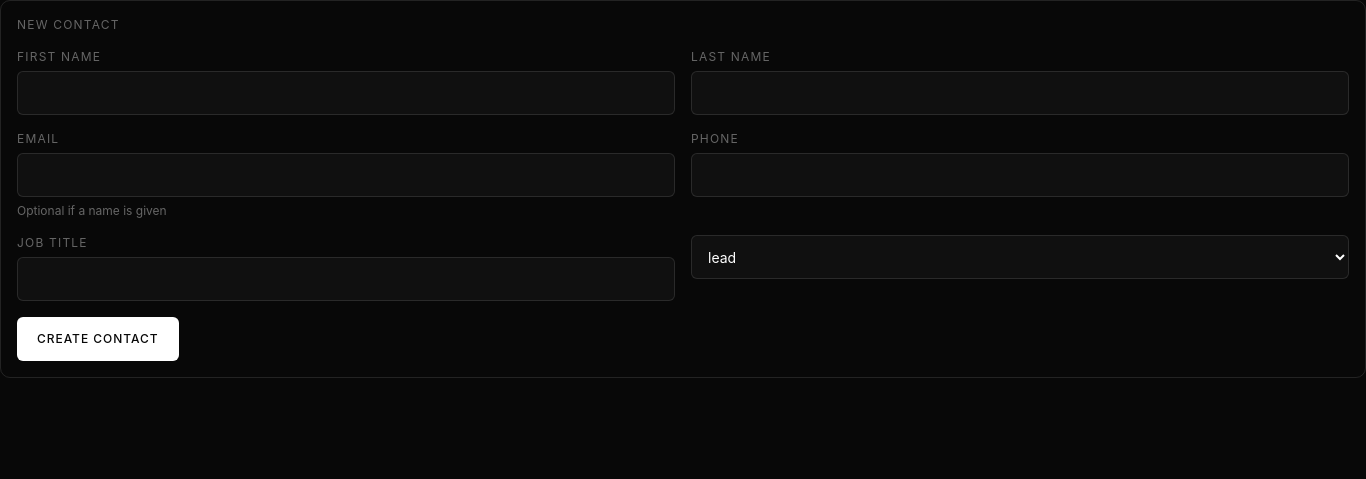
Test: CreateContactForm › surfaces a field-level error via an accessible alert, associated with its input
This screenshot has width=1366, height=479.
Click the button "Create contact" at (98, 339), box [17, 317, 179, 361]
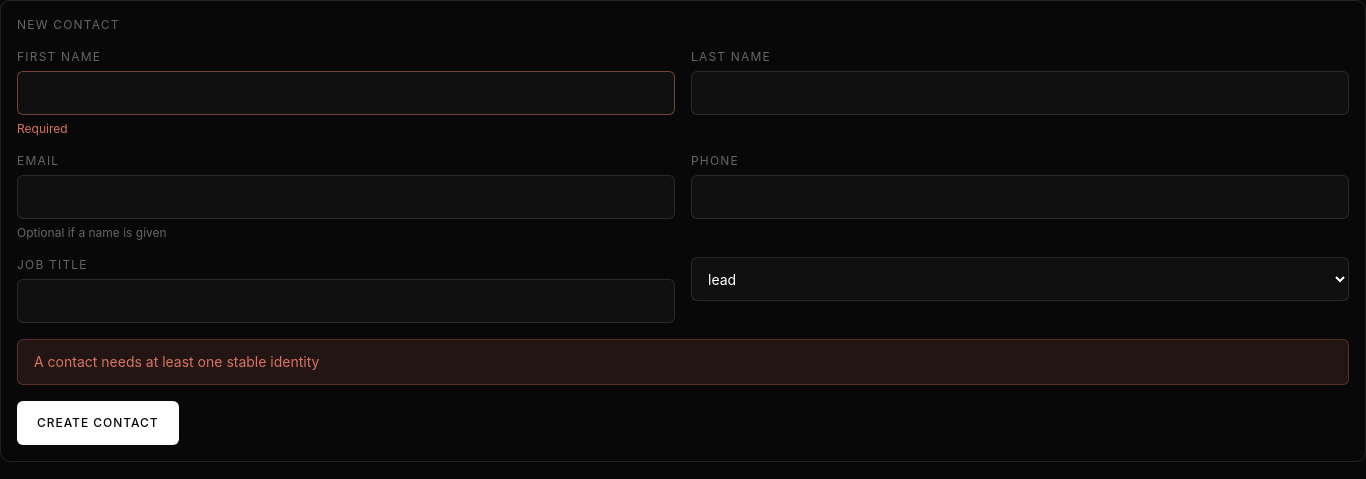
Expected: the message "Required" is shown, [17, 121, 68, 136]
